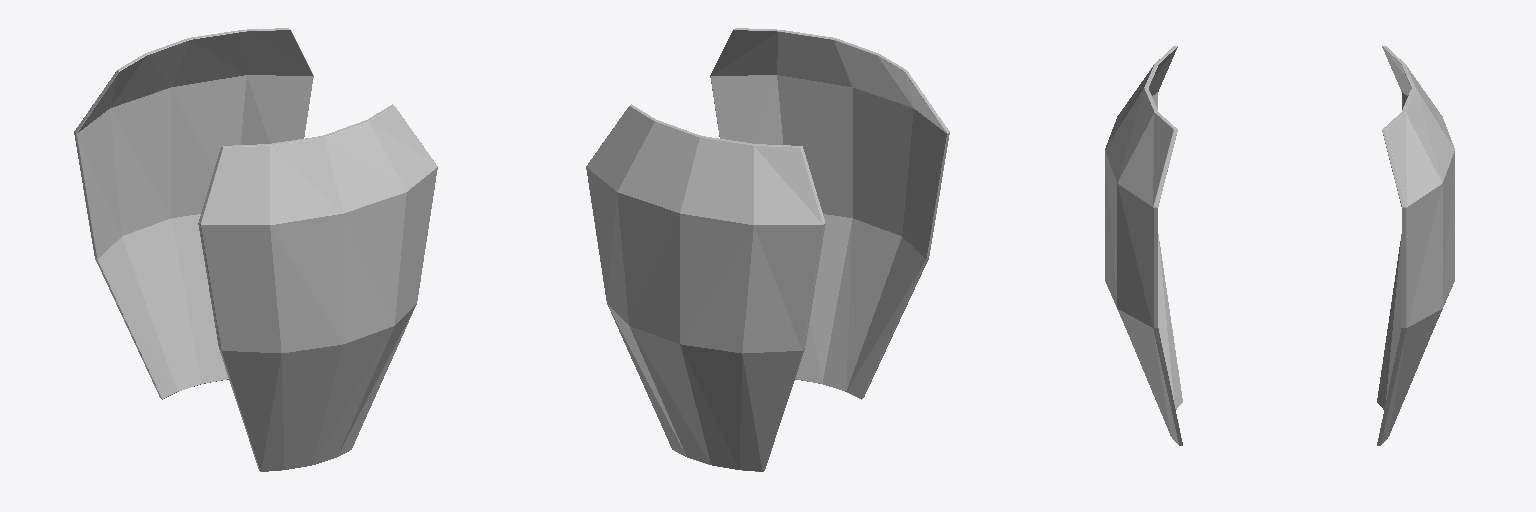
Rendered from Shield_01.obj.
The picture shows the model from 3 angles: view 1: azimuth 30°, elevation 25°; view 2: azimuth 150°, elevation 25°; view 3: azimuth 270°, elevation 25°; orthographic projection.
Visible parts, largest first — view 1: Shield_01; view 2: Shield_01; view 3: Shield_01.
Part boxes in pixels (bbox=[...]): Shield_01: bbox=[74, 28, 437, 471]; Shield_01: bbox=[586, 28, 949, 471]; Shield_01: bbox=[1105, 46, 1454, 445].
Bounding box in the file's own units: 2.64 × 3.58 × 3.37.